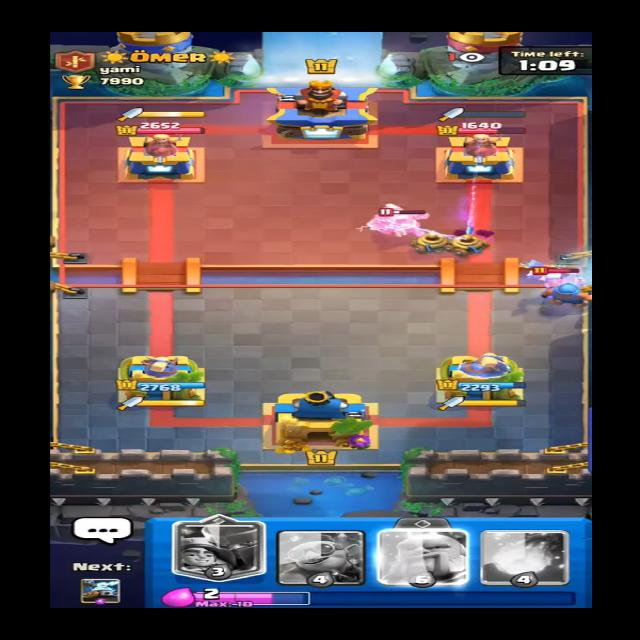lumberjack: (516, 258, 588, 294)
monk: (363, 200, 429, 235)
